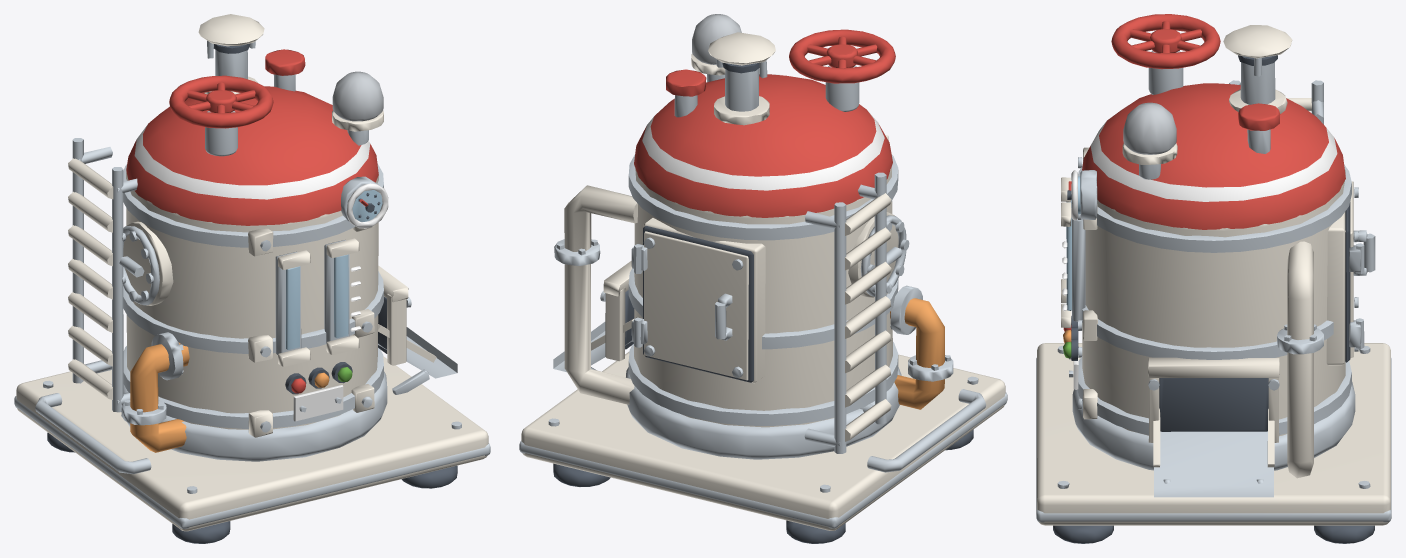
The model's file is fine_machine_tank.glb.
3 renders of one model, left to right at view 1: azimuth 30°, elevation 25°; view 2: azimuth 150°, elevation 25°; view 3: azimuth 270°, elevation 25°, orthographic. The views are drawn at different scales.
Visible parts, largest first — view 1: fine_machine_tank_structure, spin, lamp; view 2: fine_machine_tank_structure, spin, lamp; view 3: fine_machine_tank_structure, spin, lamp.
Boxes of the visible parts, bbox=[...] form: fine_machine_tank_structure: bbox=[14, 14, 490, 543]; spin: bbox=[169, 75, 273, 128]; lamp: bbox=[332, 71, 383, 121]; fine_machine_tank_structure: bbox=[519, 32, 1007, 543]; spin: bbox=[789, 29, 895, 83]; lamp: bbox=[692, 14, 741, 64]; fine_machine_tank_structure: bbox=[1036, 25, 1391, 543]; spin: bbox=[1111, 14, 1220, 69]; lamp: bbox=[1123, 102, 1176, 154].
Bounding box in the file's own units: 3.2 × 3.66 × 2.67.
